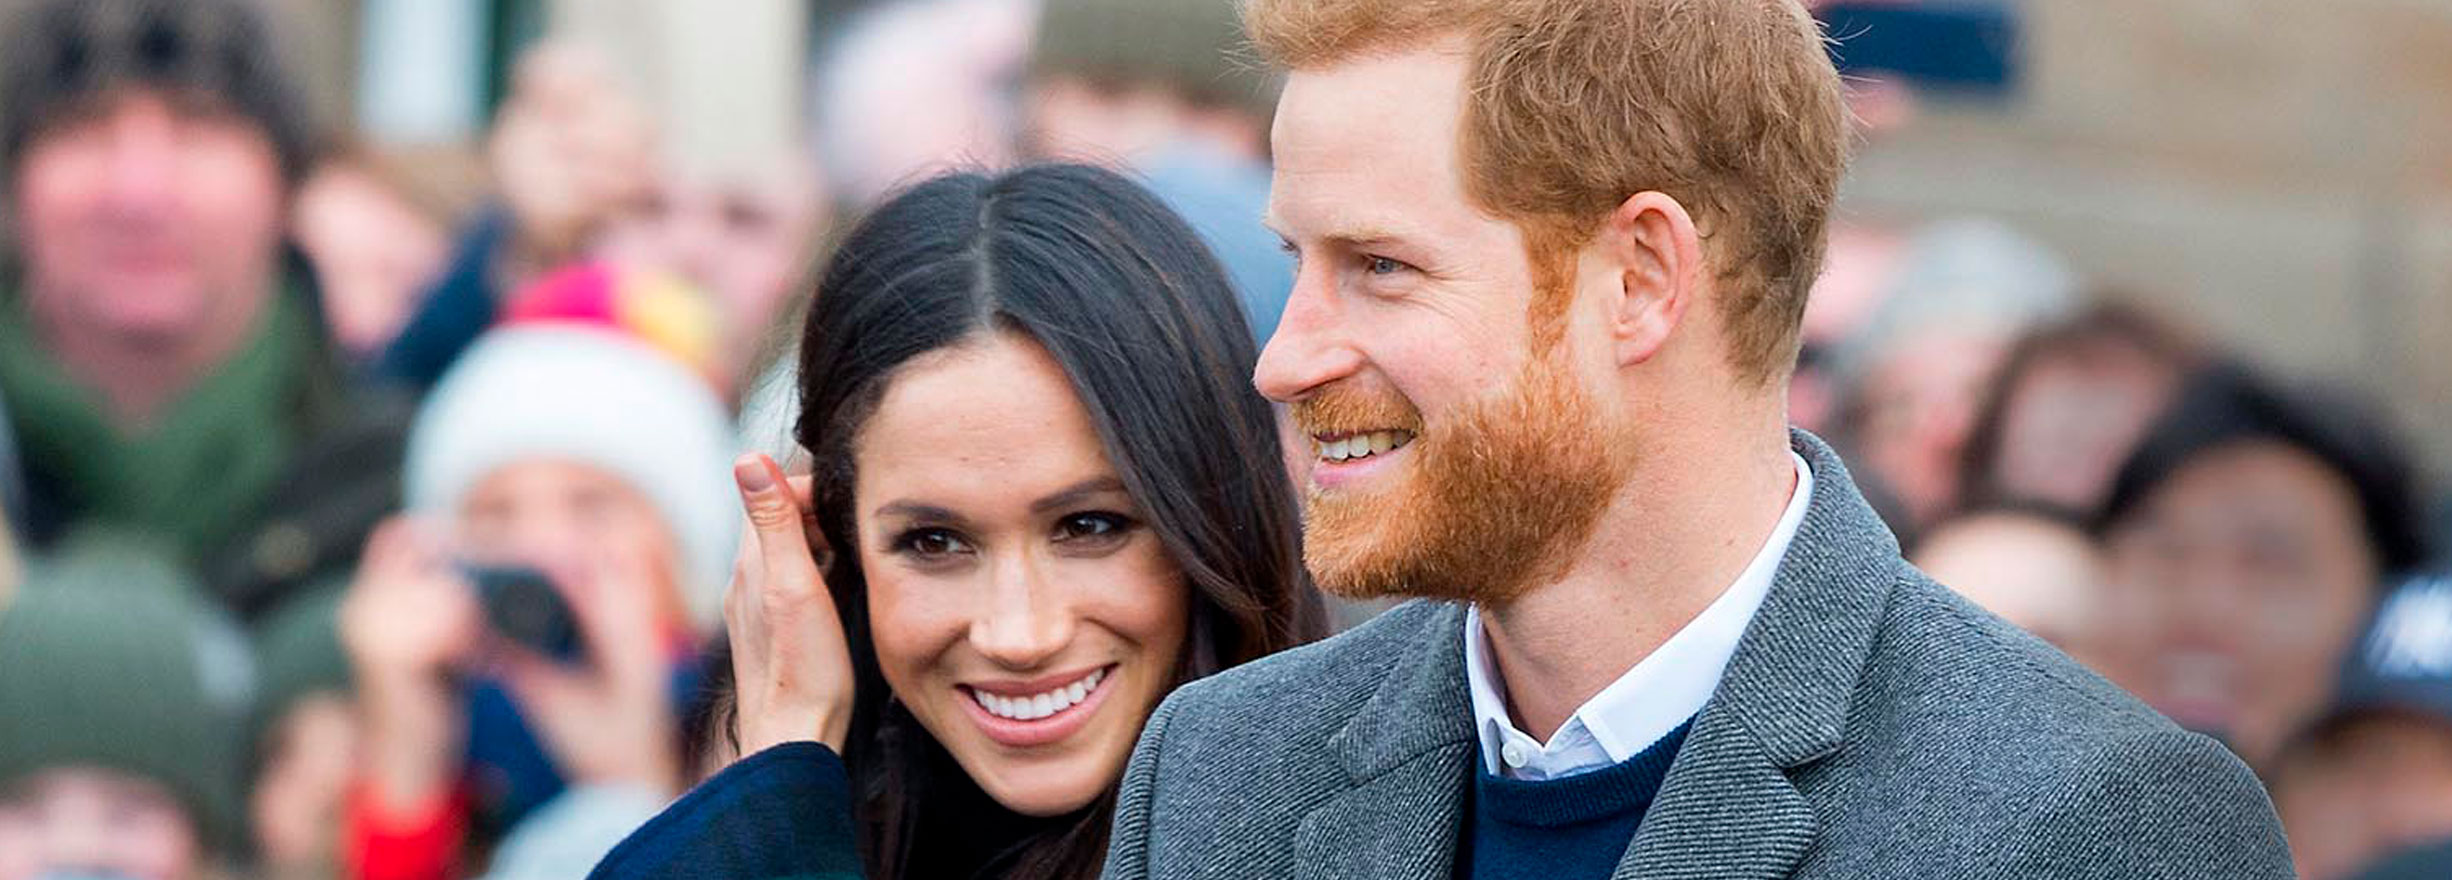without_mask: (1253, 114, 1539, 594), (862, 409, 1173, 809)
